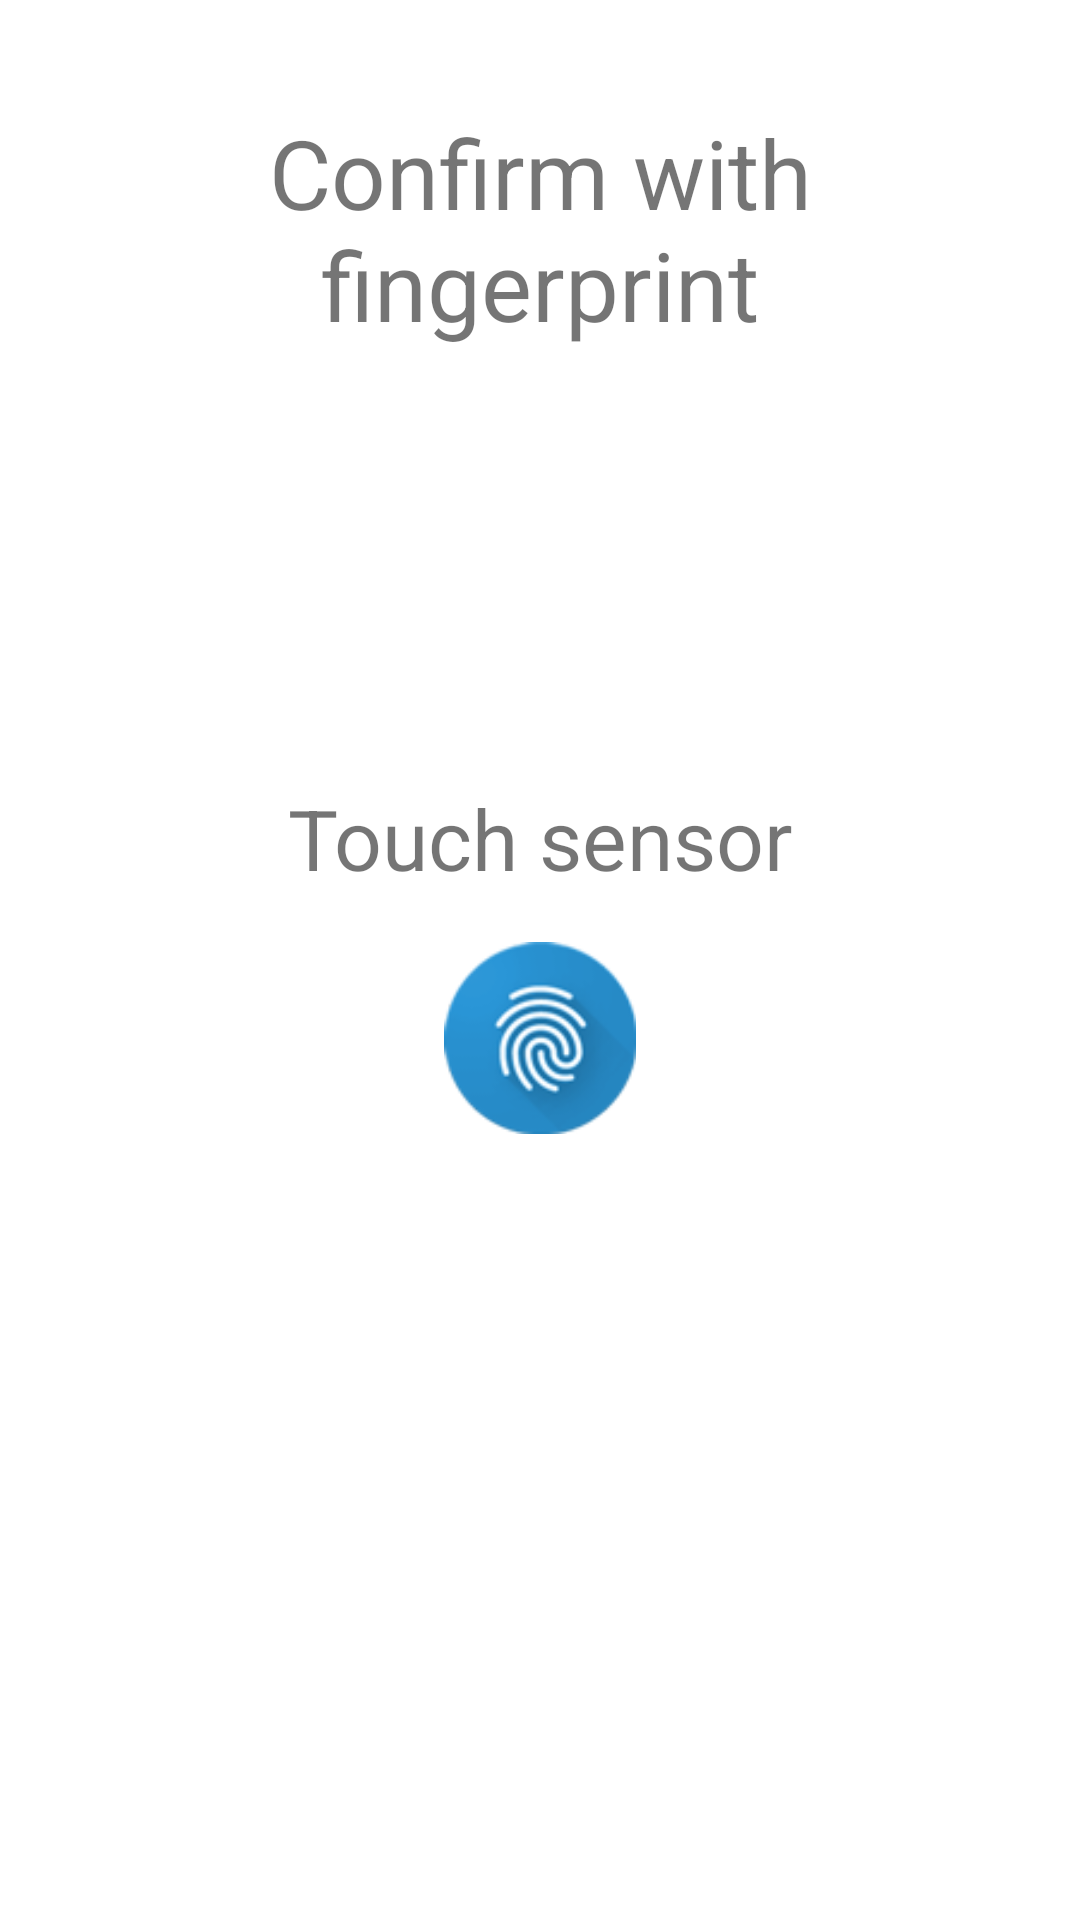

Named icons in this screenshot (1080x1920) and their bounding boxes, (x1, y1, x2, y2):
fingerprint: (444, 942, 636, 1134)
